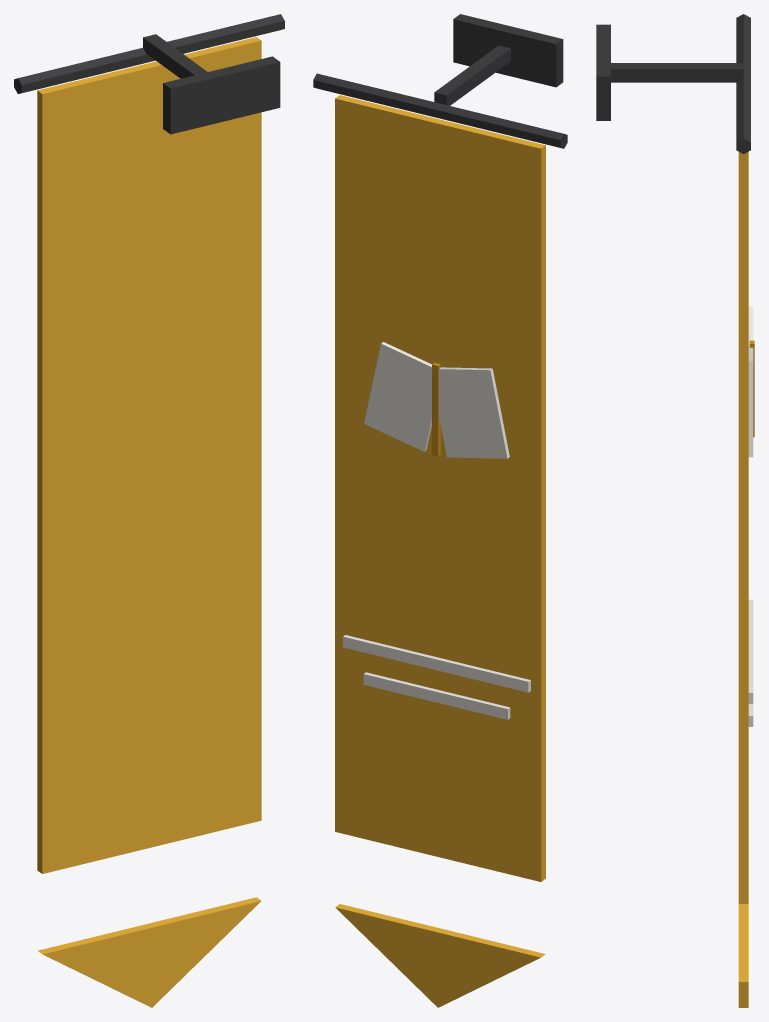
File: lib_banner.glb
3 views of the same model, side by side, from view 1: azimuth 30°, elevation 25°; view 2: azimuth 150°, elevation 25°; view 3: azimuth 270°, elevation 25° (orthographic). The views are drawn at different scales.
Visible parts, largest first — view 1: banner; view 2: banner; view 3: banner.
Part boxes in pixels (x1,y1,x2,y2): banner: (14,14,284,1007); banner: (313,14,567,1007); banner: (596,14,754,1007).
Bounding box in the file's own units: 1.2 × 4.3 × 0.645.
